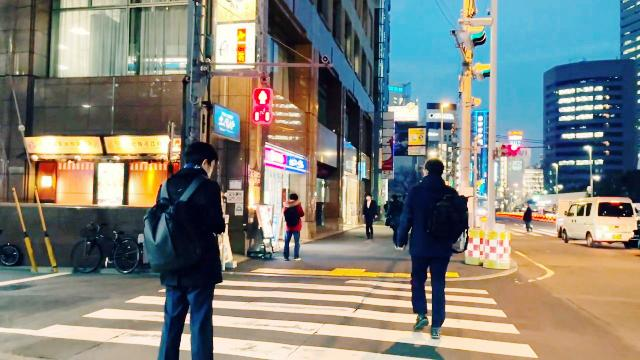berdiri: (155, 140, 223, 360)
berjalan: (399, 159, 468, 343)
